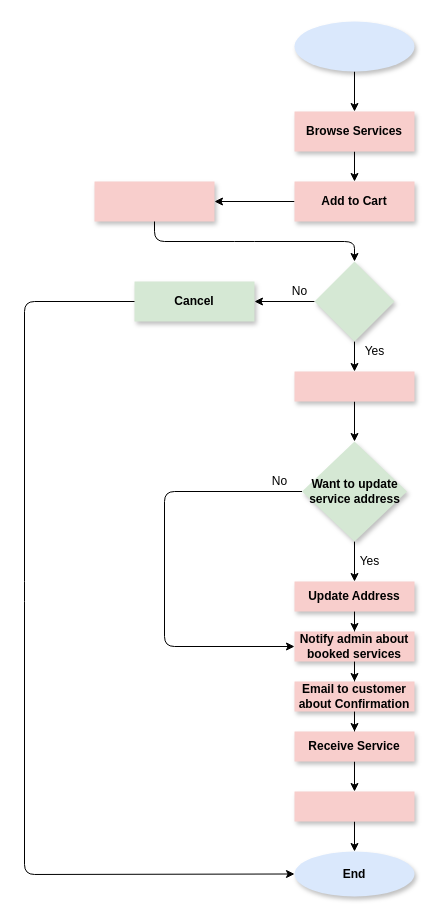
Some shapes in this 438 by 920 pixel diagram are drawn without their labels. Each missing label, with the centre of its shape:
"Check Login or not" goes at point 155,202.
"Checkout" goes at point 355,387.
"Pay after service" goes at point 355,807.
"Proceed to buy" goes at point 355,302.
"Start" goes at point 355,47.
